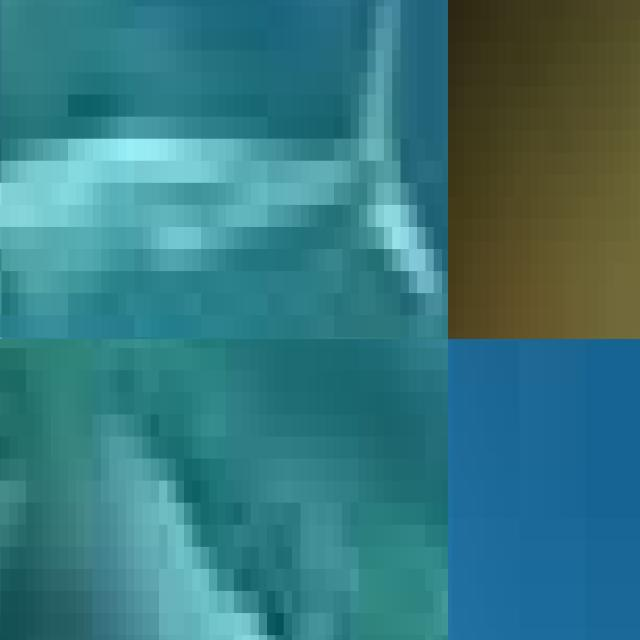fish: (0, 0, 448, 339)
